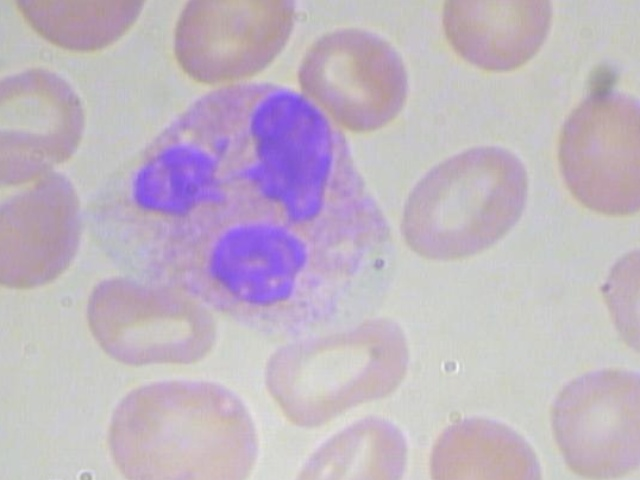RBC: (393, 130, 550, 269), (250, 313, 417, 428), (103, 369, 260, 480), (75, 268, 219, 373), (533, 81, 640, 220), (297, 20, 411, 137), (0, 154, 86, 293), (0, 56, 97, 178), (543, 359, 640, 480), (170, 0, 292, 87), (435, 0, 557, 87), (418, 405, 550, 480), (283, 408, 414, 480), (581, 242, 640, 361)
WBC: (95, 73, 432, 332)
